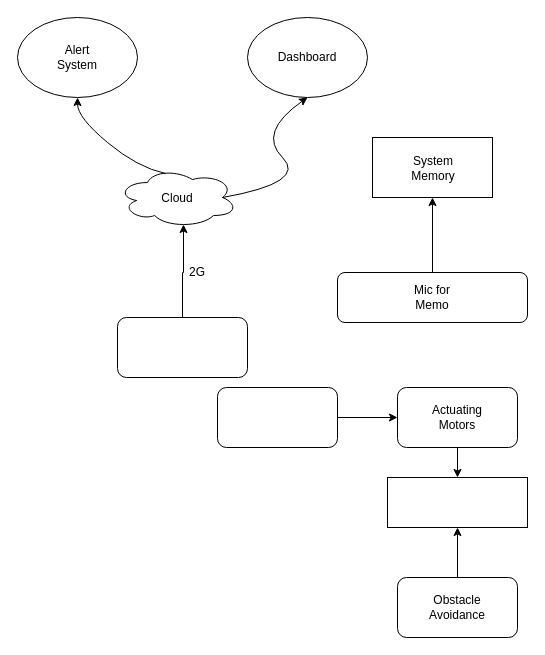
Some shapes in this 545 by 655 pixel diagram are drawn without their labels. The shapes that lost their labels are listed below. From the top down, each one's box as (x1, y1, x2, y2) in pixels, then its label:
(116, 316, 248, 378): Heart Rate Monitoring
(216, 386, 338, 448): Gesture
(386, 476, 528, 528): Chair
